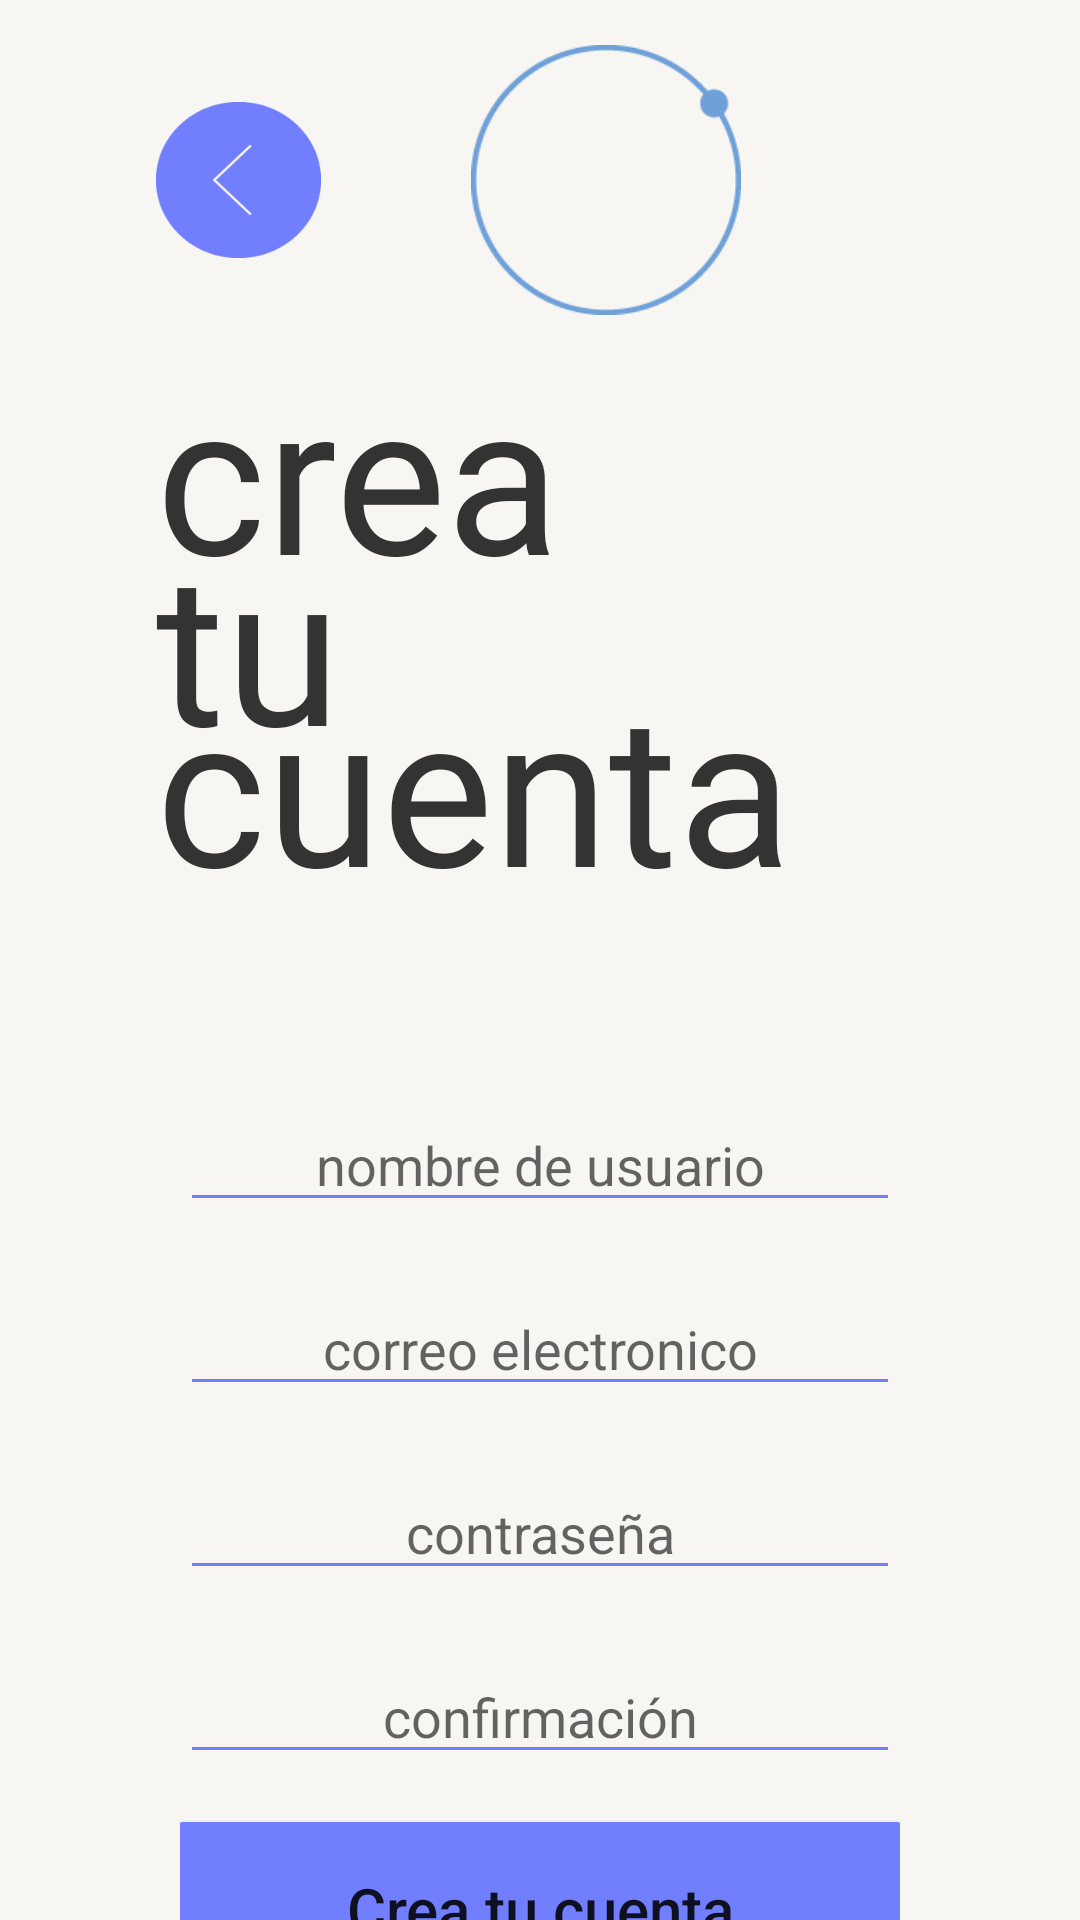

Icons on this 1080×1920 Android screen, each with its box as (x1, y1, x2, y2):
regresar xxxdpi: (156, 102, 321, 258)
